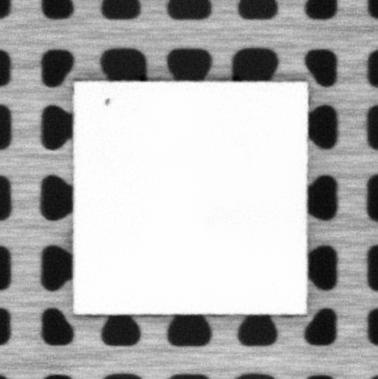DIE_INK: (103, 95, 112, 106)
